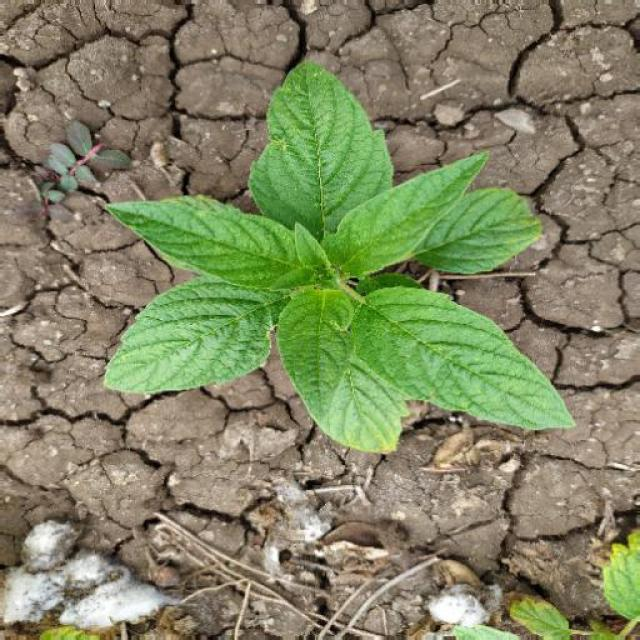crop: (105, 68, 580, 452)
